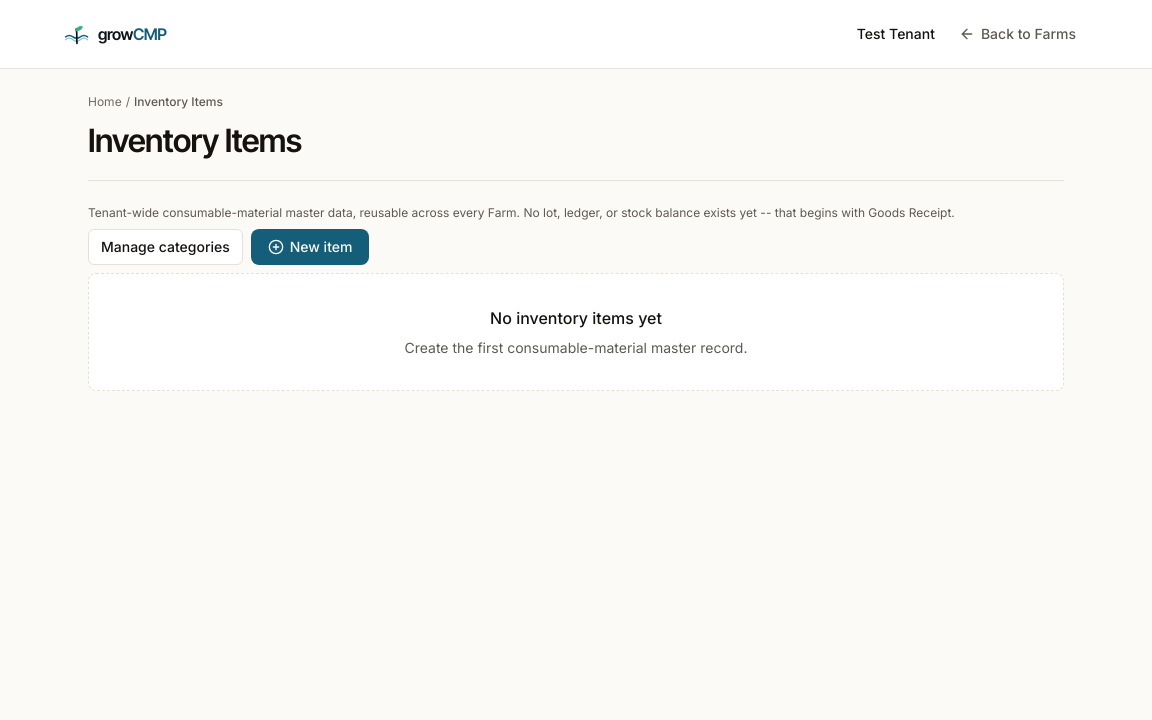
Test: InventoryItemsPage › auto-checks and locks Lot Tracking when Expiry Tracking is enabled, and prevents an invalid submit
The width and height of the screenshot is (1152, 720).
Click the button "New item" at (310, 247), box x1=251 y1=229 x2=369 y2=265
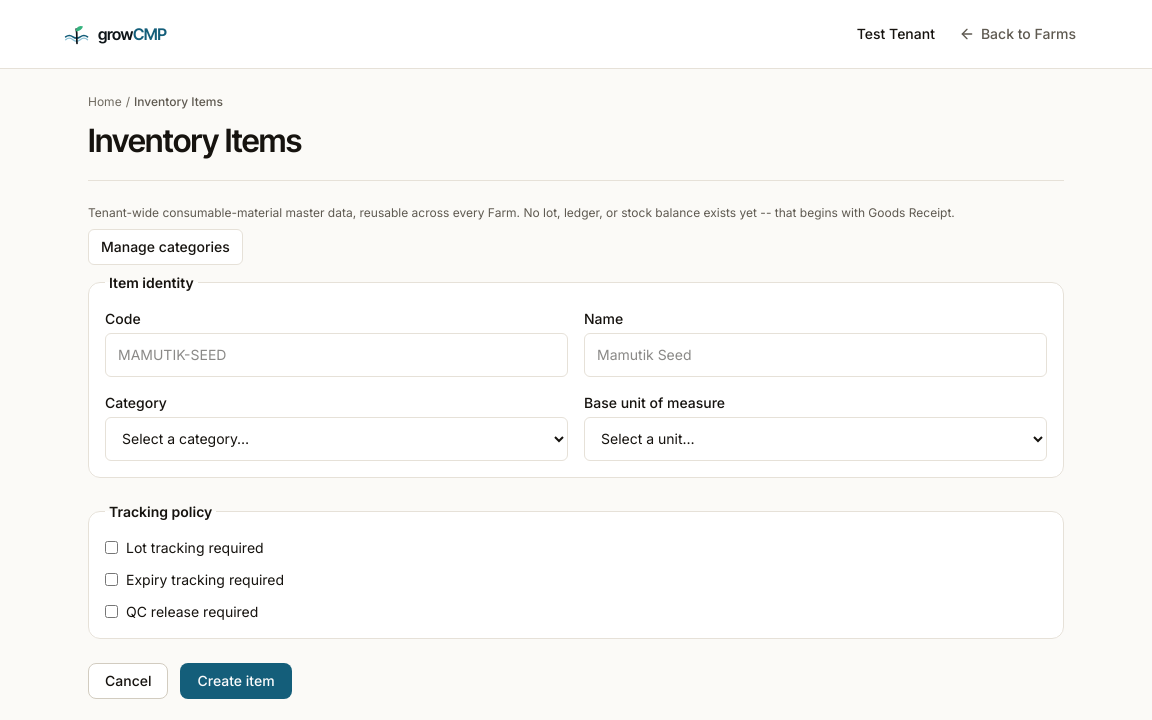
Result: the checkbox labelled "Lot tracking required" is not checked at x1=105 y1=541 x2=118 y2=554
Click the checkbox labelled "Expiry tracking required" at (112, 580), box x1=105 y1=573 x2=118 y2=586
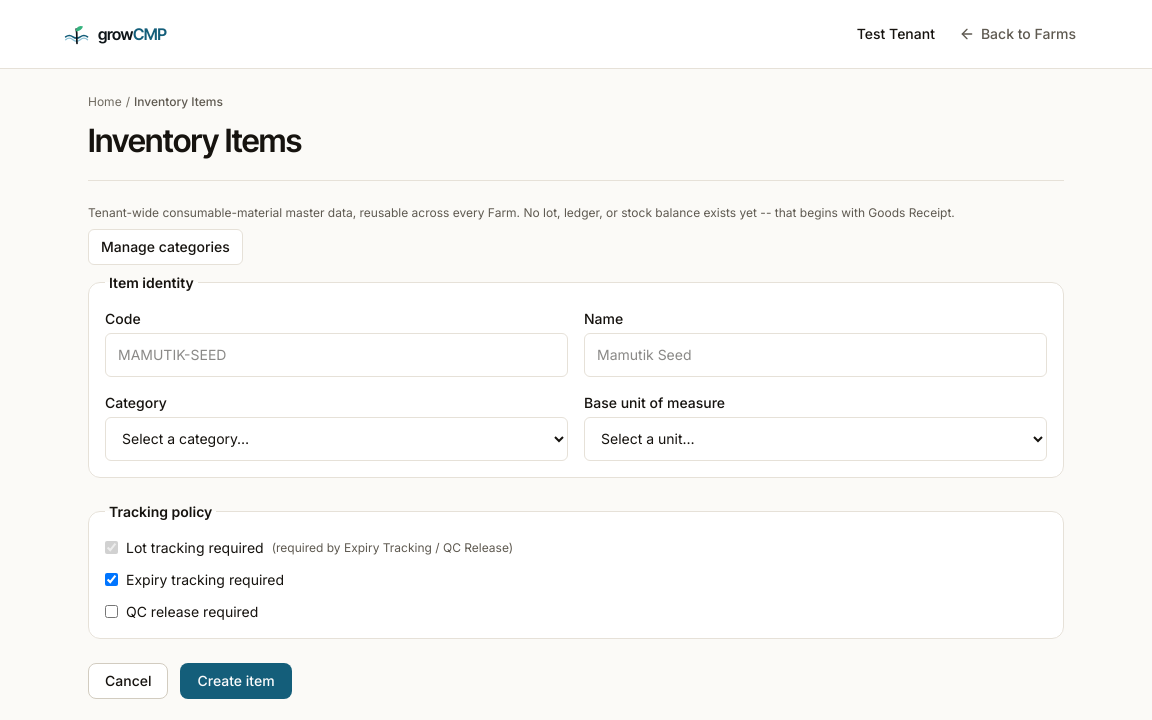
Result: the checkbox labelled "Lot tracking required" is checked at x1=105 y1=541 x2=118 y2=554
Result: the checkbox labelled "Lot tracking required" is disabled at x1=105 y1=541 x2=118 y2=554
